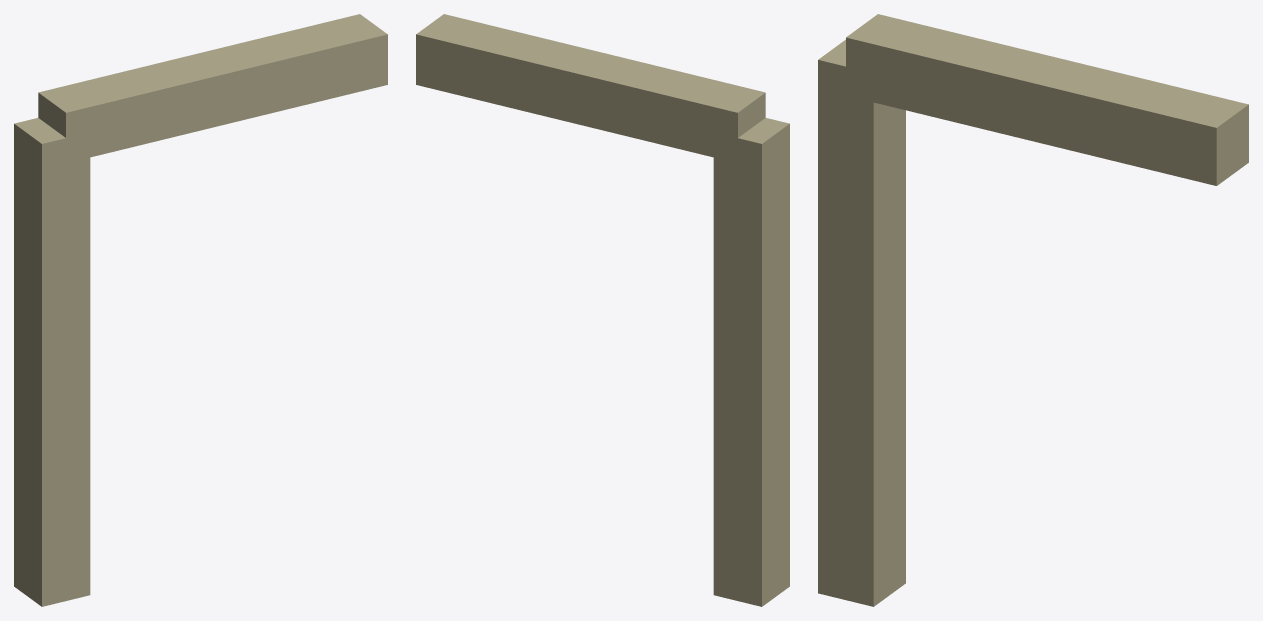
Rendered from panel_wire.glb.
3 renders of one model, left to right at view 1: azimuth 30°, elevation 25°; view 2: azimuth 150°, elevation 25°; view 3: azimuth 330°, elevation 25°, orthographic. The views are drawn at different scales.
Parts seen in each view (by area): view 1: vertical lead, horizontal lead; view 2: vertical lead, horizontal lead; view 3: vertical lead, horizontal lead.
Part boxes in pixels (x1,y1,x2,y2): vertical lead: [14, 118, 90, 606]; horizontal lead: [38, 14, 387, 163]; vertical lead: [713, 118, 789, 606]; horizontal lead: [416, 14, 765, 162]; vertical lead: [818, 39, 905, 606]; horizontal lead: [846, 14, 1248, 185].
Size of the model in its own units: 0.086 by 0.116 by 0.012.
